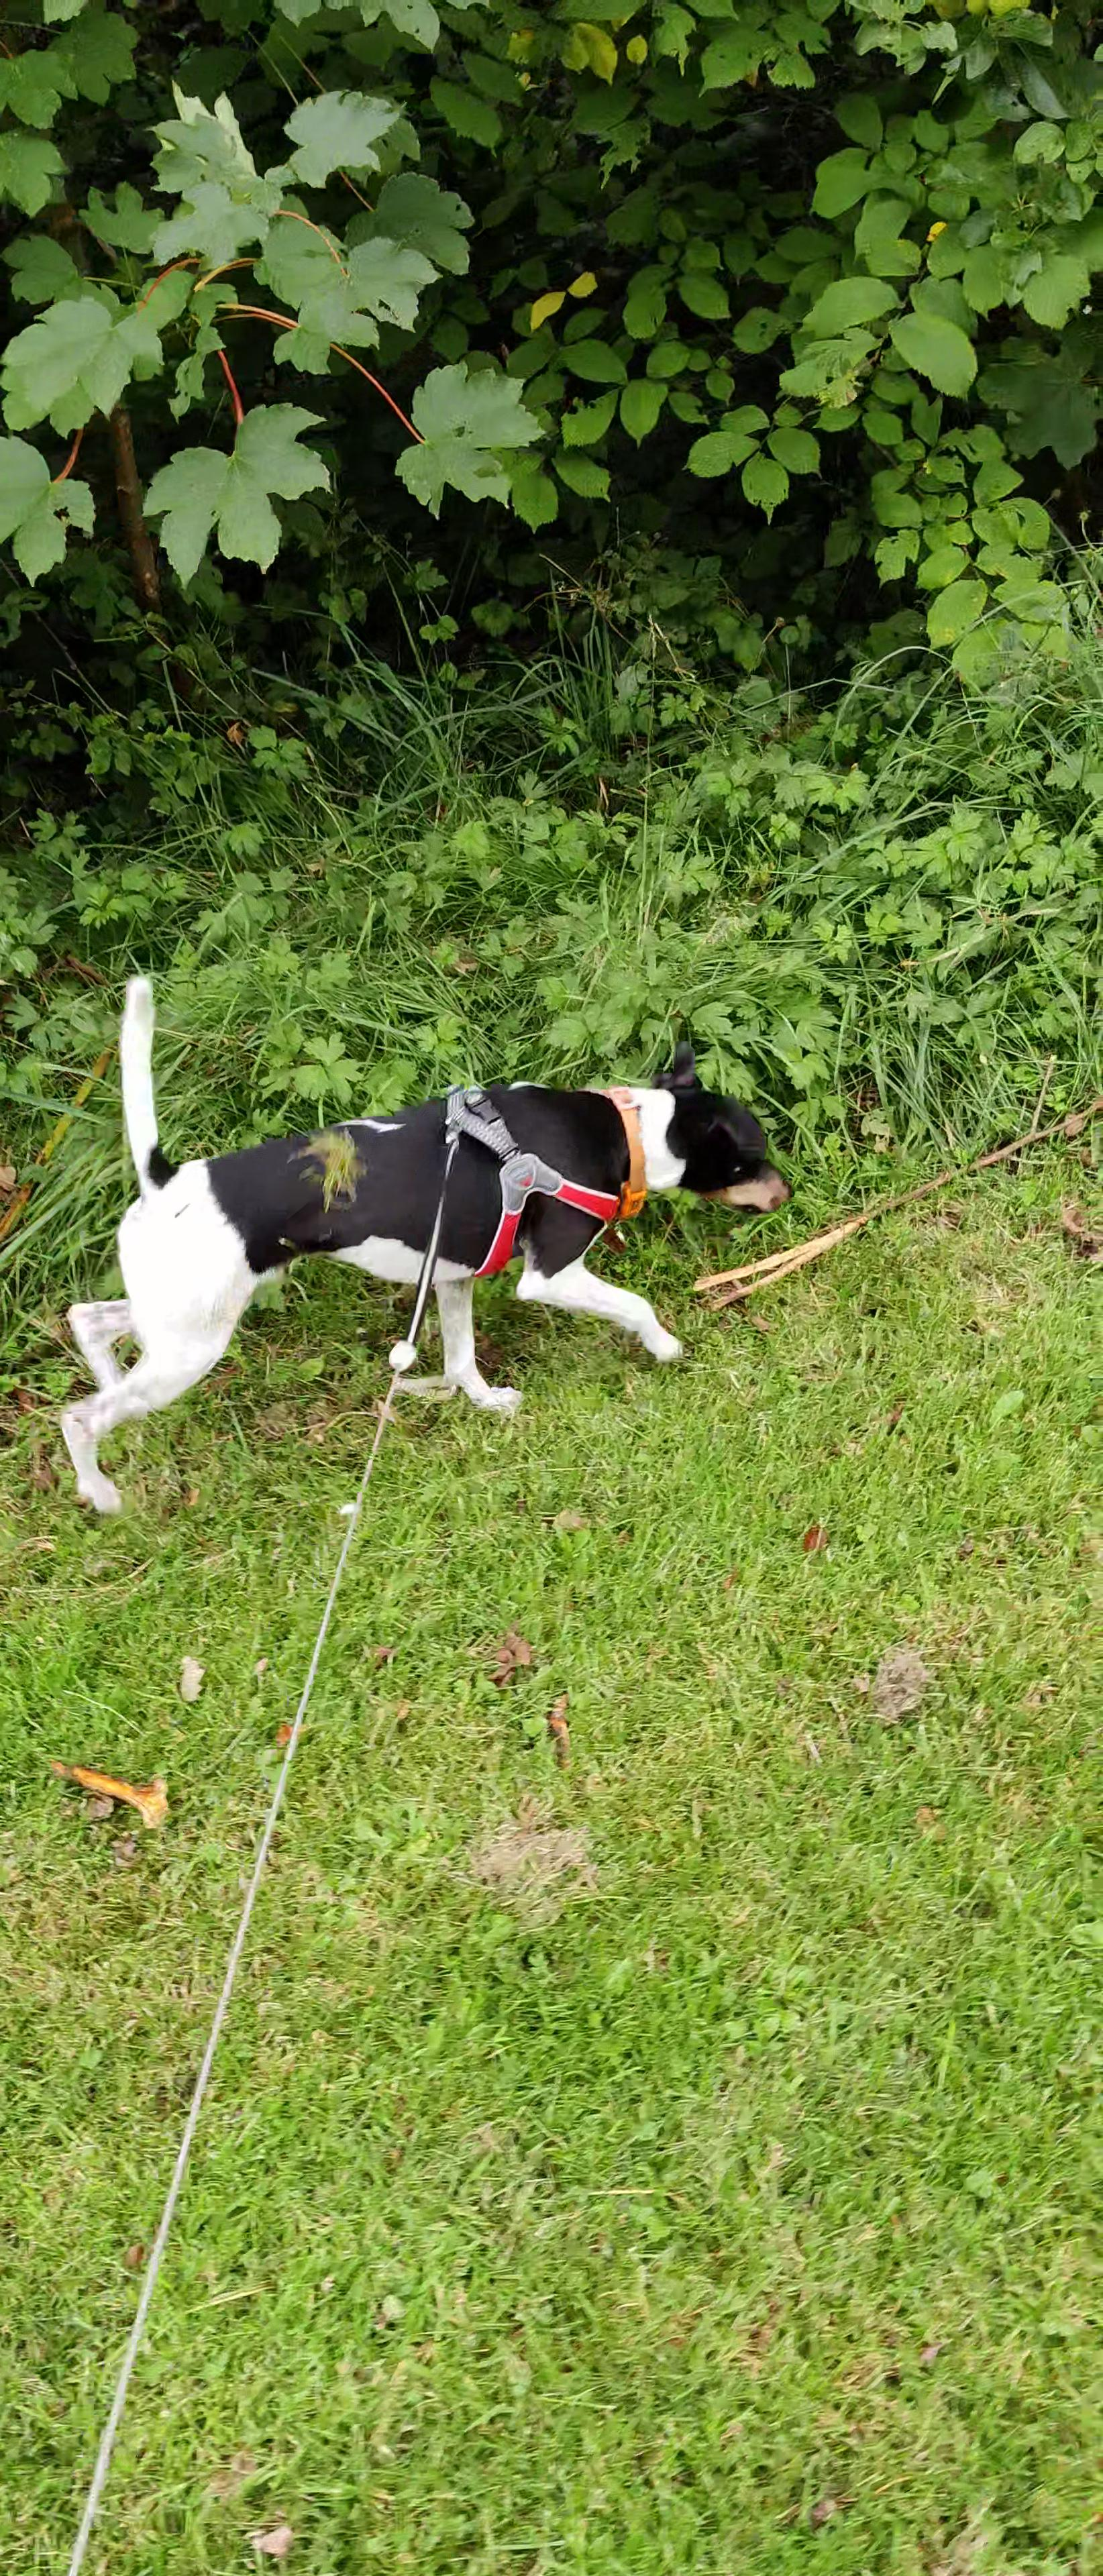Dog: (53, 968, 801, 1523)
